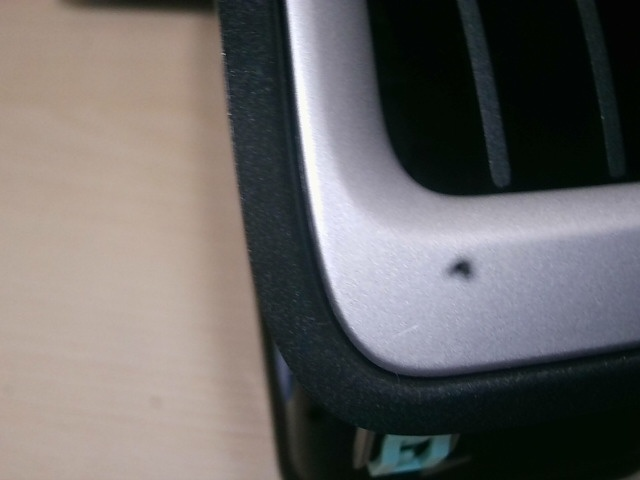NG: (390, 317, 421, 348)
